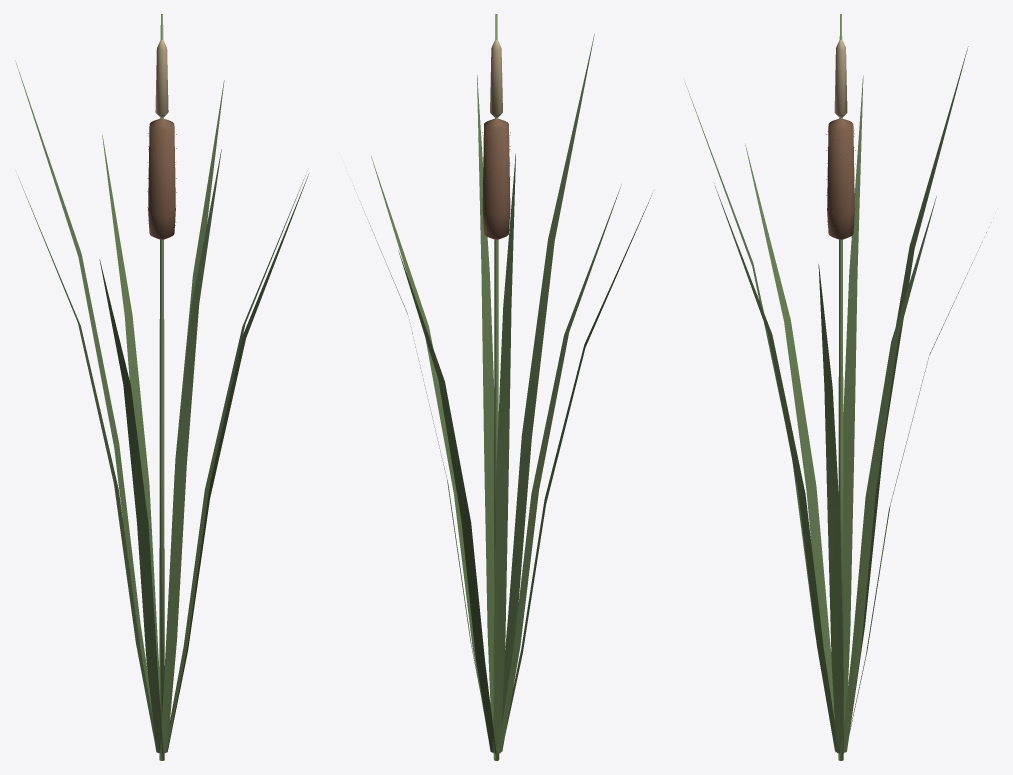
The model's file is broadleaf_cattail_hybrid.glb.
3 views of the same model, side by side, from view 1: azimuth 30°, elevation 25°; view 2: azimuth 150°, elevation 25°; view 3: azimuth 270°, elevation 25° (orthographic).
Visible parts, largest first — view 1: BroadLeaf_02, BroadLeaf_03, FemaleSeedSpike, BroadLeaf_06, BroadLeaf_05, UprightFlowerStalk, BroadLeaf_01, BroadLeaf_04, ReferenceBroadLeaf, BroadLeaf_07, UpperMaleSpike; view 2: BroadLeaf_05, BroadLeaf_02, BroadLeaf_01, BroadLeaf_06, BroadLeaf_04, FemaleSeedSpike, ReferenceBroadLeaf, UprightFlowerStalk, BroadLeaf_03, UpperMaleSpike, BroadLeaf_07; view 3: BroadLeaf_04, ReferenceBroadLeaf, BroadLeaf_03, BroadLeaf_07, BroadLeaf_01, FemaleSeedSpike, BroadLeaf_05, UprightFlowerStalk, BroadLeaf_02, UpperMaleSpike, BroadLeaf_06.
Boxes of the visible parts, x1,y1,x2,y2 form: BroadLeaf_02: (160, 149, 221, 753); BroadLeaf_03: (99, 259, 163, 753); FemaleSeedSpike: (148, 119, 175, 239); BroadLeaf_06: (102, 135, 159, 689); BroadLeaf_05: (15, 60, 156, 751); UprightFlowerStalk: (159, 14, 164, 760); BroadLeaf_01: (165, 175, 305, 752); BroadLeaf_04: (15, 170, 158, 752); ReferenceBroadLeaf: (167, 173, 309, 751); BroadLeaf_07: (164, 80, 224, 667); UpperMaleSpike: (155, 40, 168, 117); BroadLeaf_05: (493, 154, 515, 753); BroadLeaf_02: (502, 34, 594, 724); BroadLeaf_01: (477, 75, 494, 725); BroadLeaf_06: (398, 250, 496, 753); BroadLeaf_04: (498, 184, 621, 753); FemaleSeedSpike: (482, 118, 510, 239); ReferenceBroadLeaf: (371, 156, 489, 747); UprightFlowerStalk: (493, 14, 499, 760); BroadLeaf_03: (501, 193, 652, 751); UpperMaleSpike: (490, 39, 502, 117); BroadLeaf_07: (348, 174, 484, 715); BroadLeaf_04: (843, 75, 863, 725); ReferenceBroadLeaf: (818, 264, 843, 753); BroadLeaf_03: (745, 143, 834, 722); BroadLeaf_07: (841, 196, 936, 753); BroadLeaf_01: (713, 182, 839, 753); FemaleSeedSpike: (827, 119, 854, 239); BroadLeaf_05: (847, 46, 968, 749); UprightFlowerStalk: (838, 14, 843, 760); BroadLeaf_02: (683, 78, 835, 752); UpperMaleSpike: (834, 40, 847, 117); BroadLeaf_06: (849, 222, 991, 735).
Bounding box in the file's own units: 0.6735 × 1.75 × 0.6735.
